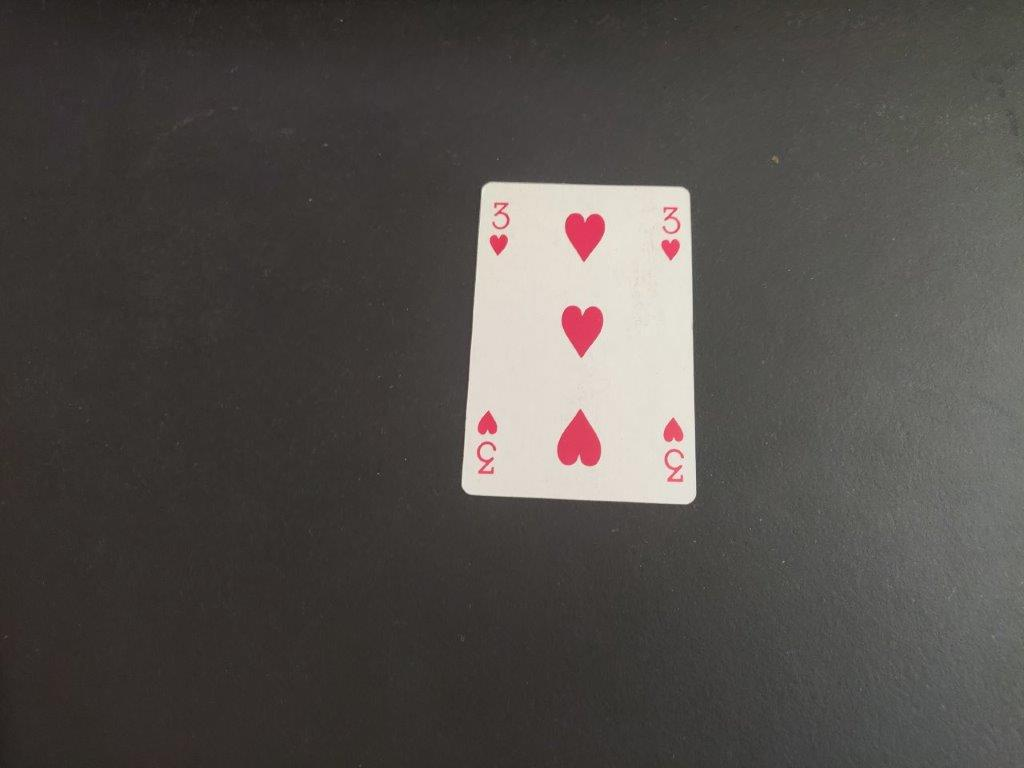3H: (656, 204, 685, 266), (485, 198, 513, 258)
